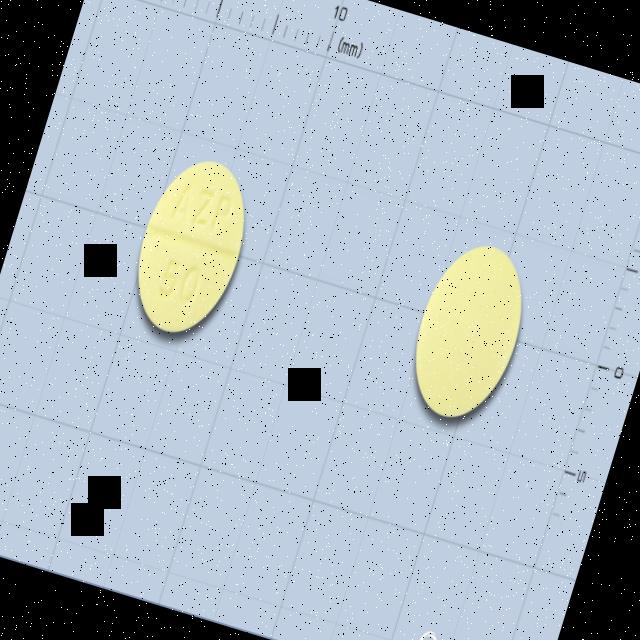Teva Azathioprine Tab: (119, 149, 262, 346)
